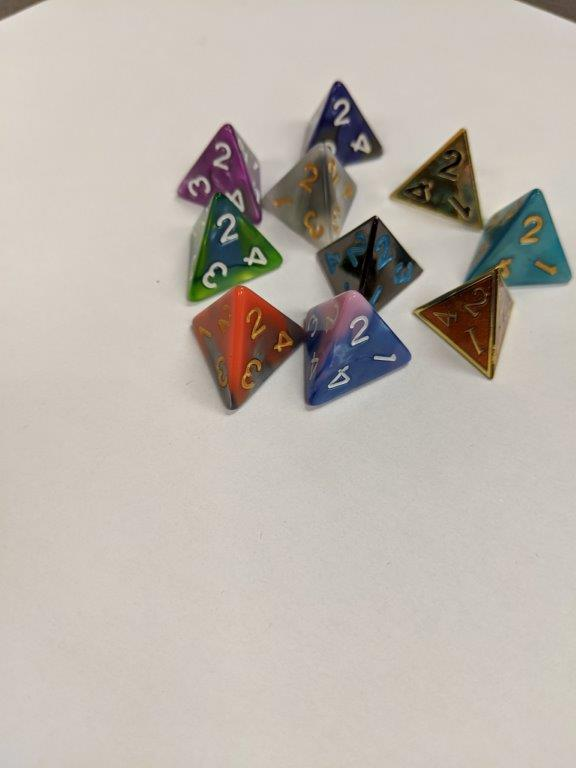d4-2: (194, 285, 307, 422), (306, 286, 415, 417), (410, 263, 517, 382), (469, 188, 574, 286), (386, 126, 484, 231), (257, 142, 358, 243), (188, 195, 290, 294), (315, 213, 423, 298), (174, 122, 261, 211), (299, 79, 383, 158)
